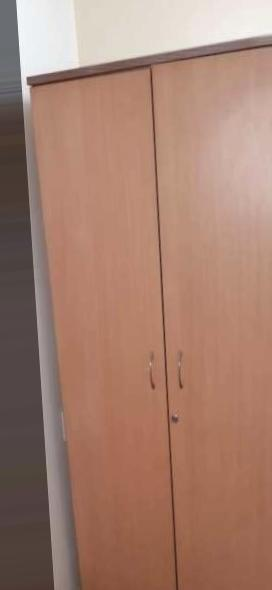Armario: (15, 31, 269, 588)
